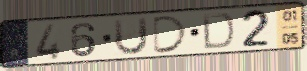2: (240, 7, 275, 51)
4: (34, 22, 63, 61)
6: (69, 22, 99, 58)
D: (151, 14, 190, 56), (201, 12, 237, 51)
U: (112, 15, 150, 57)
